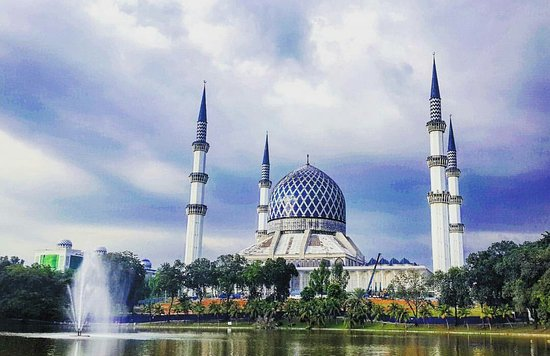Mosque: (168, 56, 466, 281)
